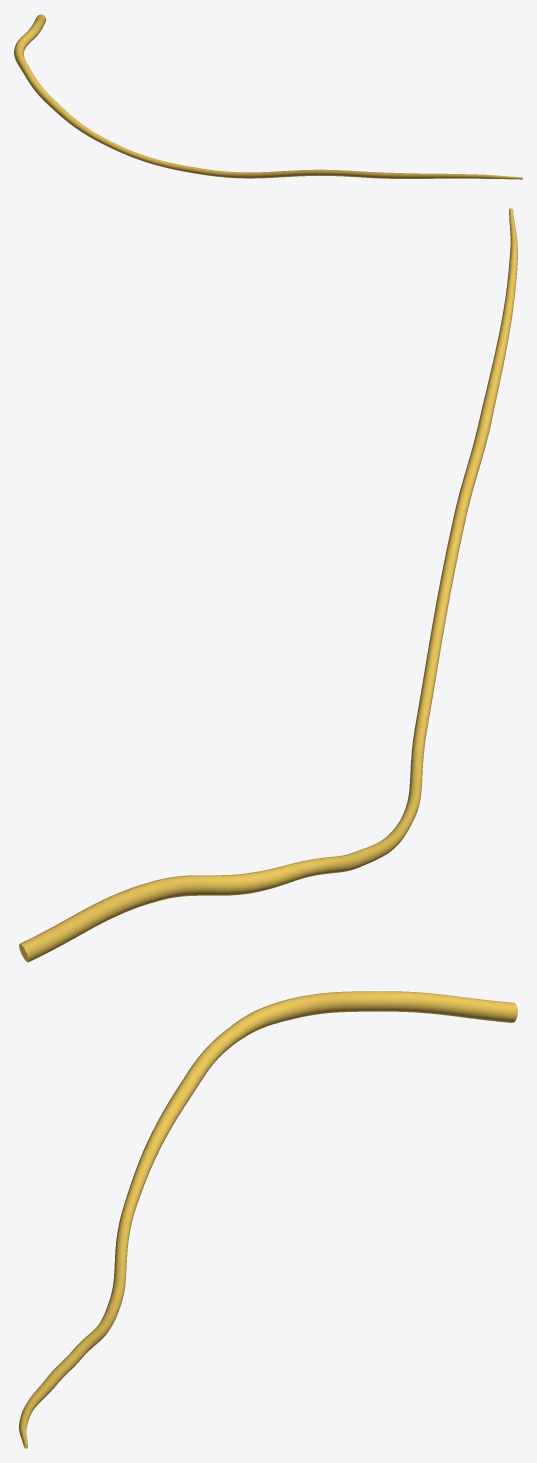
The model's file is Trochlear_nerve_IV_left.glb.
3 renders of one model, top to bottom at view 1: azimuth 30°, elevation 25°; view 2: azimuth 150°, elevation 25°; view 3: azimuth 330°, elevation 25°, orthographic. The views are drawn at different scales.
Visible parts, largest first — view 1: Trochlear_nerve_(IV).l_BezierCurve.349; view 2: Trochlear_nerve_(IV).l_BezierCurve.349; view 3: Trochlear_nerve_(IV).l_BezierCurve.349.
Part boxes in pixels (bbox=[...]): Trochlear_nerve_(IV).l_BezierCurve.349: bbox=[14, 14, 522, 179]; Trochlear_nerve_(IV).l_BezierCurve.349: bbox=[19, 208, 517, 962]; Trochlear_nerve_(IV).l_BezierCurve.349: bbox=[19, 991, 517, 1448].
Bounding box in the file's own units: 0.0228 × 0.0107 × 0.0707.
